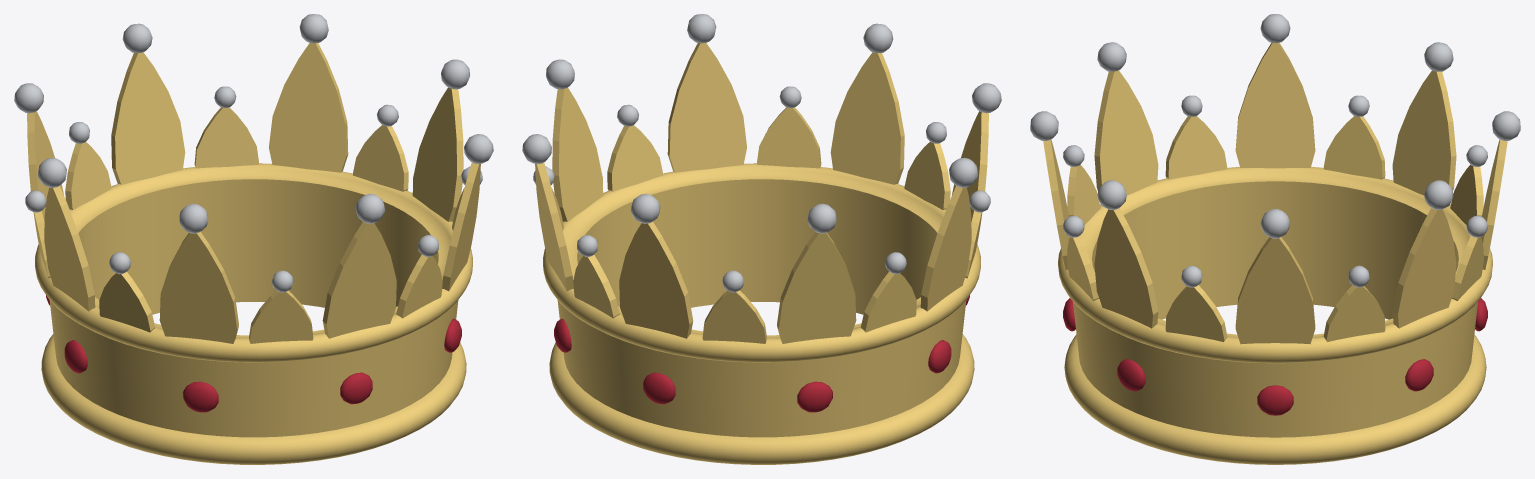
Rendered from Crown.gltf.
The picture shows the model from 3 angles, left to right: view 1: azimuth 30°, elevation 25°; view 2: azimuth 150°, elevation 25°; view 3: azimuth 270°, elevation 25°; orthographic projection.
Parts seen in each view (by area): view 1: Crown; view 2: Crown; view 3: Crown.
Part boxes in pixels (x1,y1,x2,y2): Crown: [14, 14, 493, 464]; Crown: [522, 14, 1001, 464]; Crown: [1030, 14, 1520, 464].
Bounding box in the file's own units: 0.2218 × 0.1337 × 0.2218.
